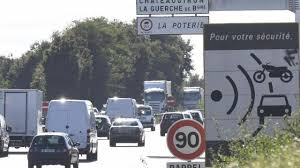Speed_limit_90km: (166, 119, 206, 160)
car: (26, 133, 79, 168), (108, 117, 147, 147)
